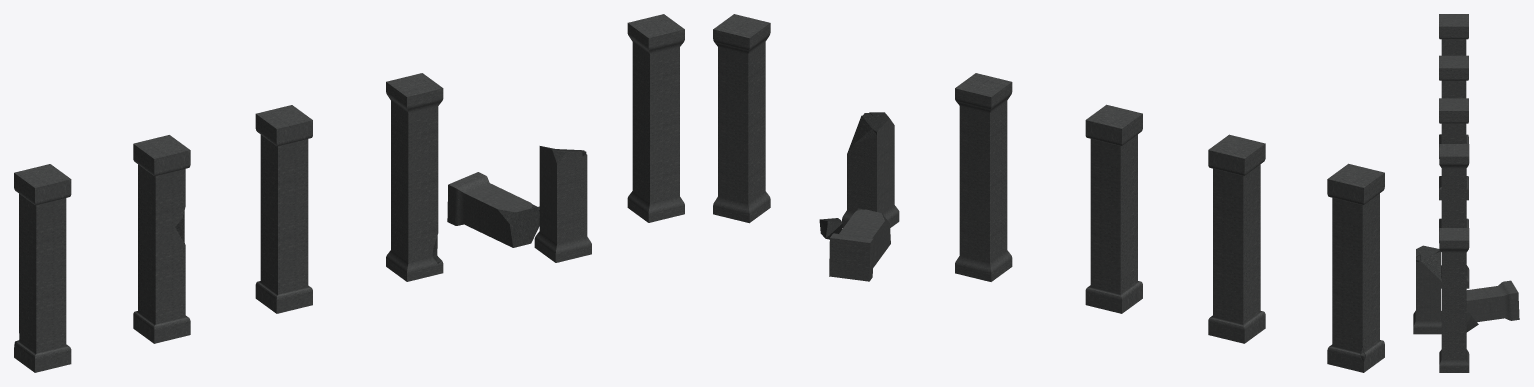
The model's file is Pillars.fbx.
3 renders of one model, left to right at view 1: azimuth 30°, elevation 25°; view 2: azimuth 150°, elevation 25°; view 3: azimuth 270°, elevation 25°, orthographic. The views are drawn at different scales.
Parts seen in each view (by area): view 1: Pillar_D, Pillar_F, Pillar_E, Pillar_A, Pillar_C, Bottom, Top; view 2: Pillar_C, Pillar_D, Pillar_E, Pillar_F, Pillar_A, Bottom, Top; view 3: Pillar_A, Pillar_C, Bottom, Top, Pillar_E, Pillar_D, Pillar_F, Debris.
Boxes of the visible parts, x1,y1,x2,y2 form: Pillar_D: (255,105,312,313); Pillar_F: (14,164,71,372); Pillar_E: (133,135,190,343); Pillar_A: (627,14,684,222); Pillar_C: (386,73,443,281); Bottom: (534,146,591,262); Top: (447,172,539,247); Pillar_C: (955,73,1012,281); Pillar_D: (1085,104,1142,313); Pillar_E: (1208,134,1265,343); Pillar_F: (1327,163,1384,372); Pillar_A: (713,14,770,223); Bottom: (842,112,899,227); Top: (829,208,890,281); Pillar_A: (1439,228,1469,372); Pillar_C: (1439,144,1469,288); Bottom: (1413,245,1441,334); Top: (1466,280,1519,322); Pillar_E: (1439,55,1468,200); Pillar_D: (1439,98,1468,242); Pillar_F: (1439,14,1468,158); Debris: (1466,312,1478,332).
Bounding box in the file's own units: 21.61 × 5.88 × 4.27.
